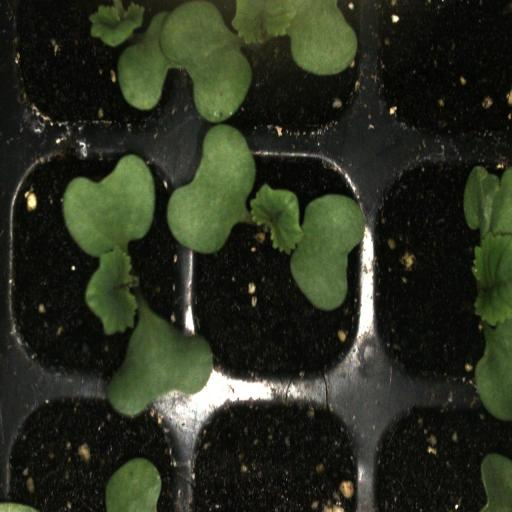Folha: (464, 166, 512, 421), (480, 453, 512, 512)
Germinacao: (183, 137, 367, 393), (4, 139, 184, 387), (370, 137, 512, 395), (186, 0, 368, 138)
